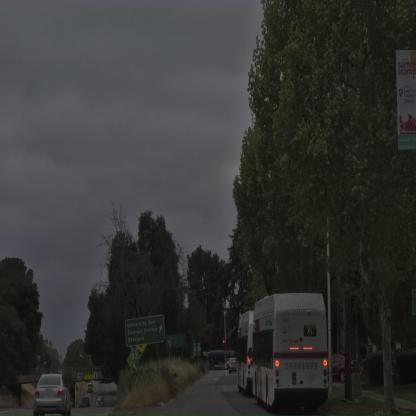bus: (246, 292, 332, 413), (234, 312, 263, 406)
car: (363, 346, 416, 387), (33, 374, 73, 416), (332, 354, 346, 382), (227, 356, 238, 374)
